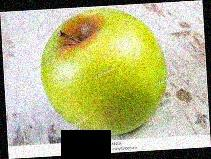rotten apple: (39, 6, 172, 138)
